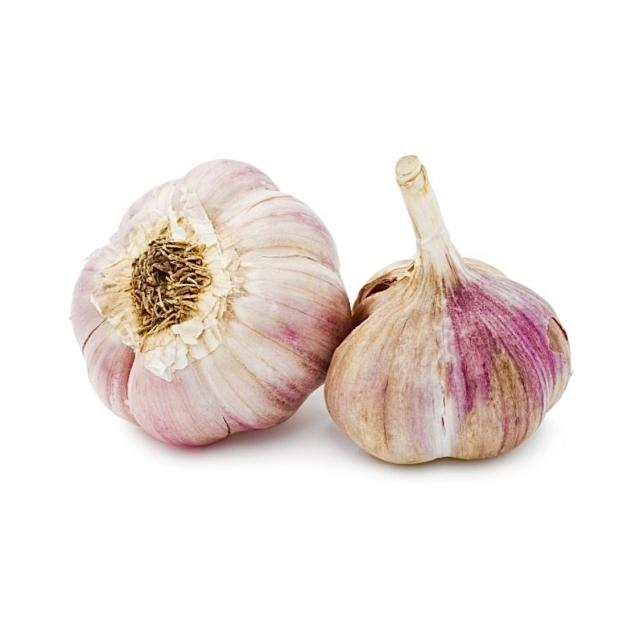garlic: (47, 152, 584, 473)
